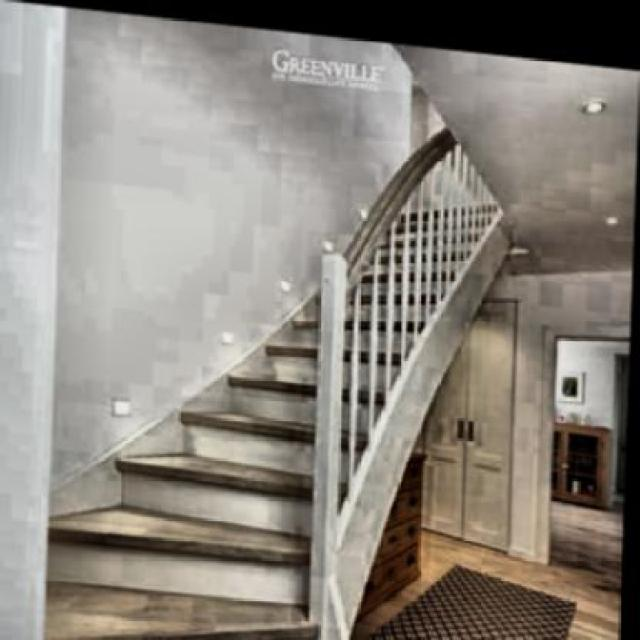stair: (26, 170, 448, 638)
